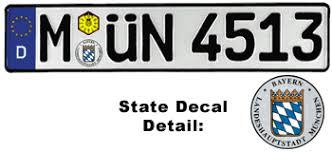1: (256, 9, 289, 62)
3: (291, 11, 323, 63)
4: (188, 9, 223, 64)
5: (222, 11, 258, 60)
M: (37, 11, 74, 65)
N: (140, 12, 175, 64)
ue: (103, 12, 138, 65)
